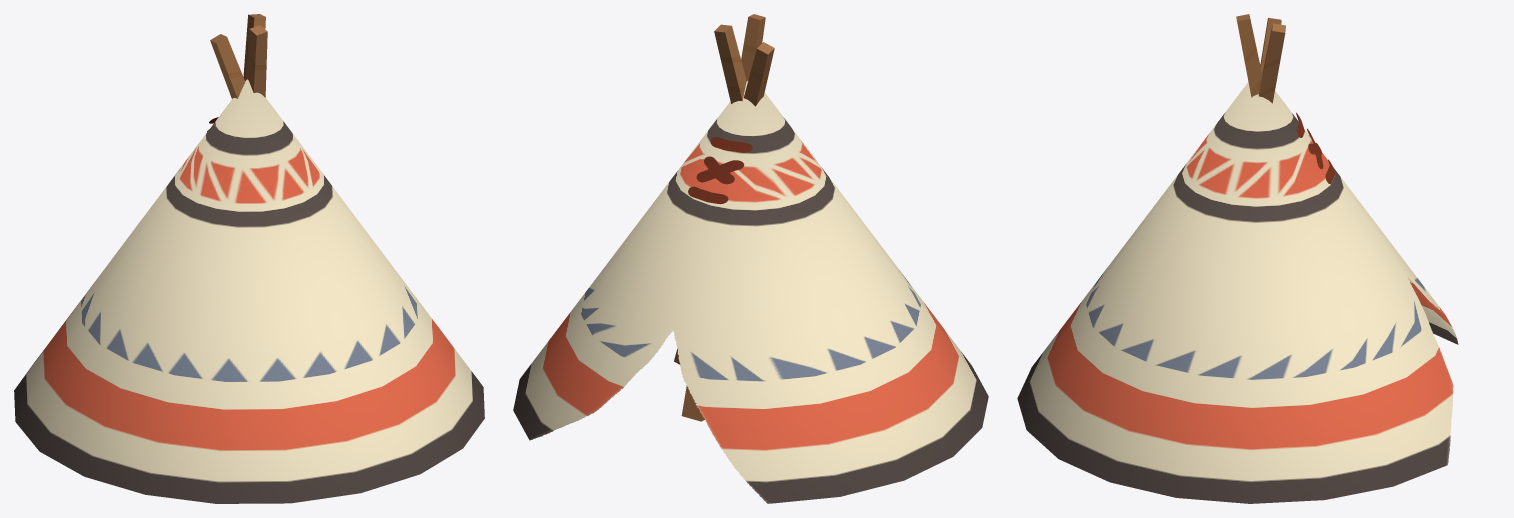
Rendered from ClothTent.fbx.
3 views of the same model, side by side, from view 1: azimuth 30°, elevation 25°; view 2: azimuth 150°, elevation 25°; view 3: azimuth 270°, elevation 25° (orthographic).
Parts seen in each view (by area): view 1: ClothTent; view 2: ClothTent; view 3: ClothTent.
Part boxes in pixels (x1,y1,x2,y2): ClothTent: (14,14,484,503); ClothTent: (513,14,988,503); ClothTent: (1017,14,1458,503).
Bounding box in the file's own units: 254 × 225 × 254.
Materials: 2 (2 with a texture image).
